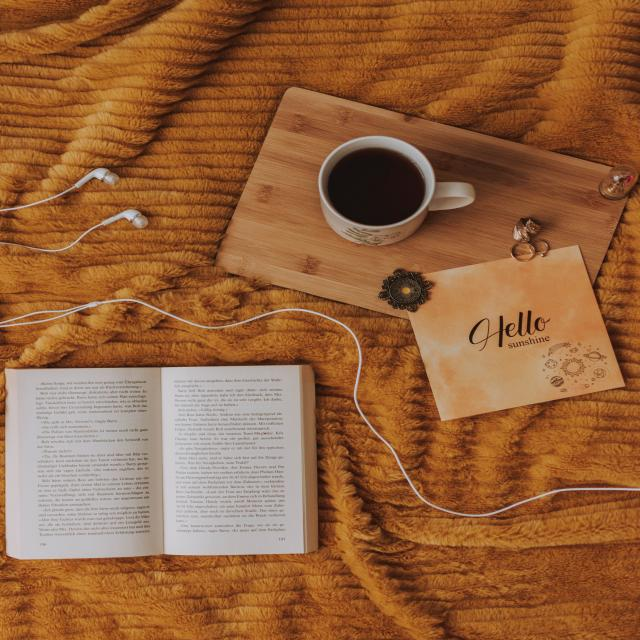cup: (306, 113, 468, 255)
headphones: (46, 152, 178, 256)
